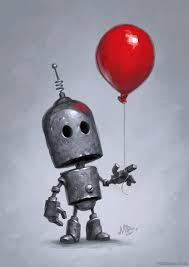red: (96, 24, 157, 105)
